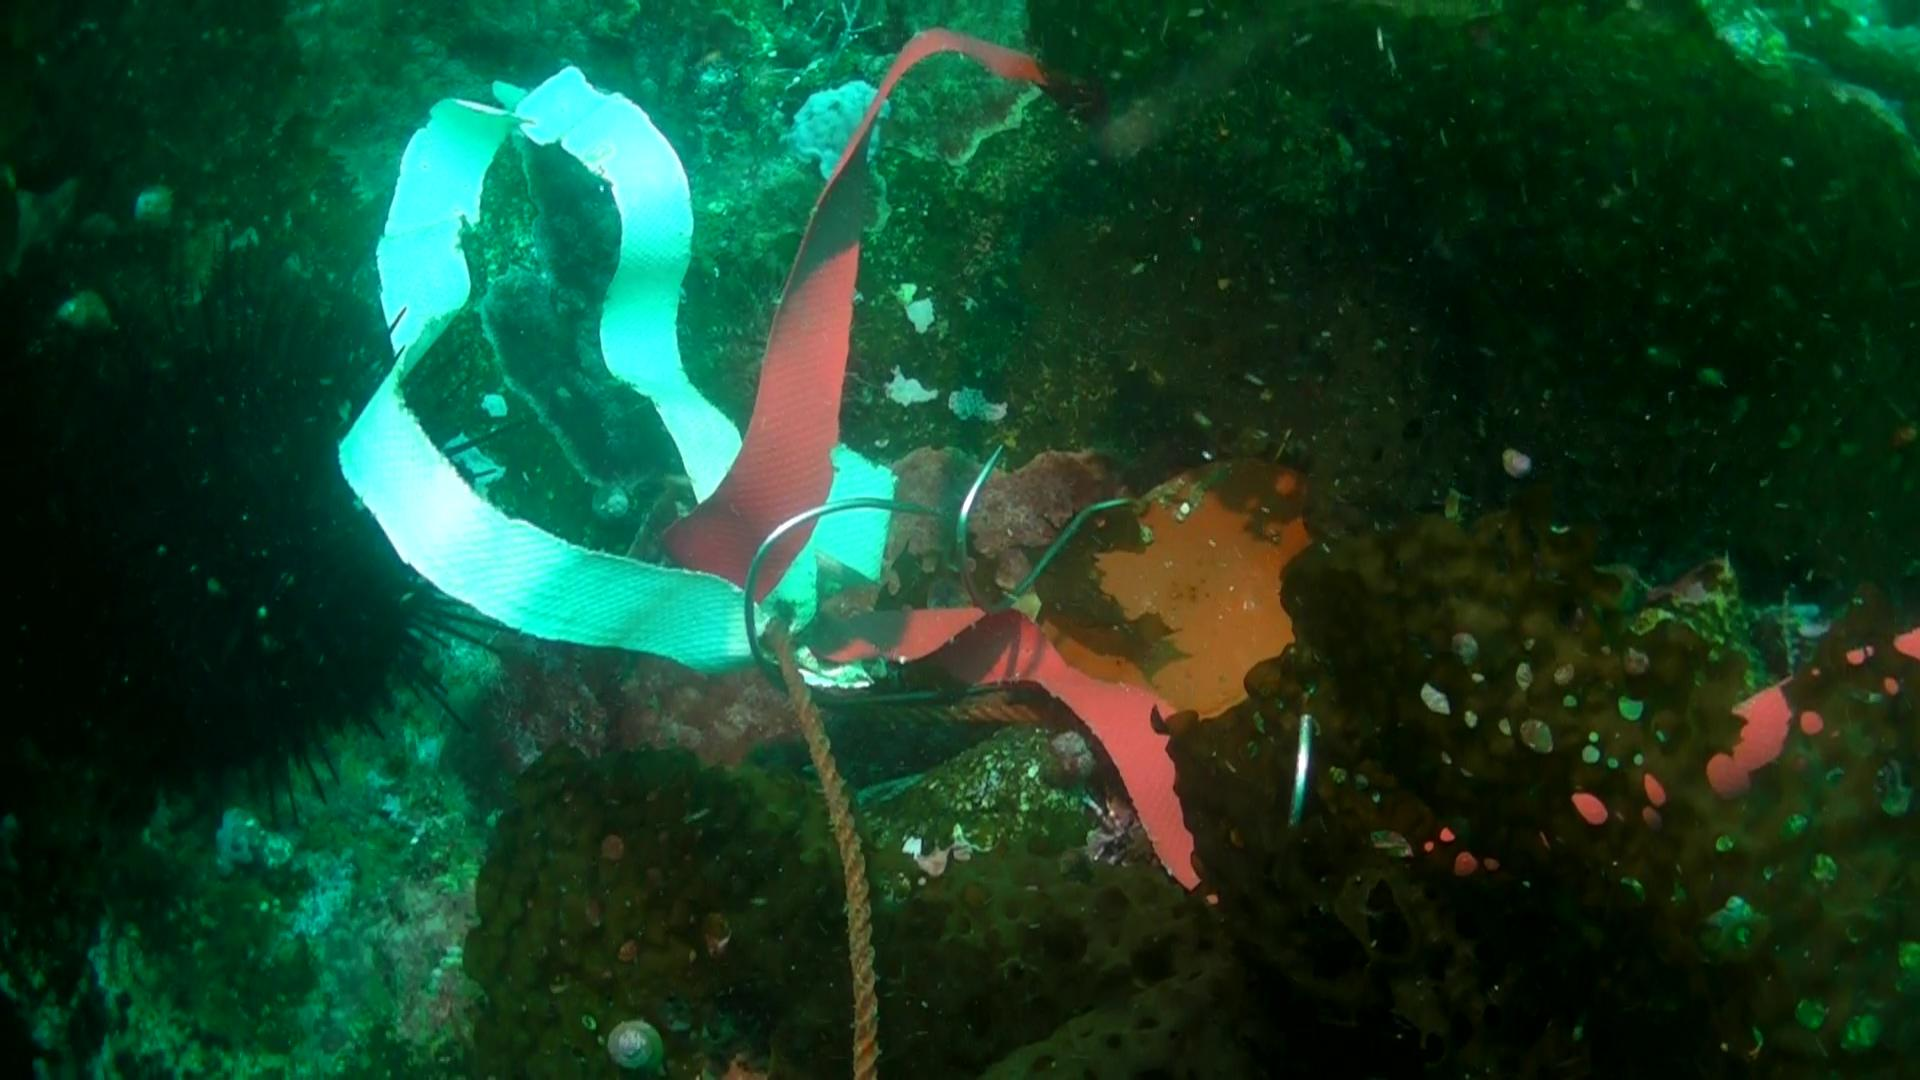rope: (767, 633, 882, 1080), (853, 702, 1072, 728)
